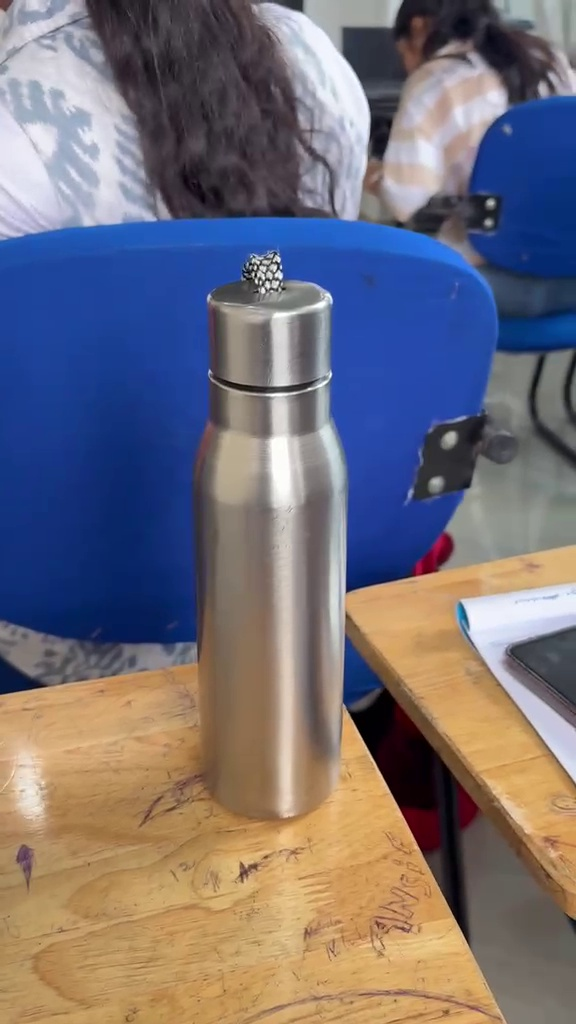Bottle: (188, 230, 360, 819)
